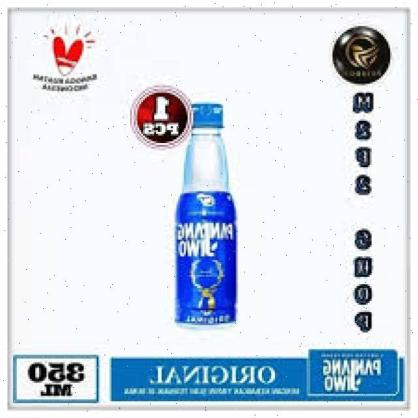bottle: (157, 94, 246, 330)
cap: (187, 101, 224, 135)
